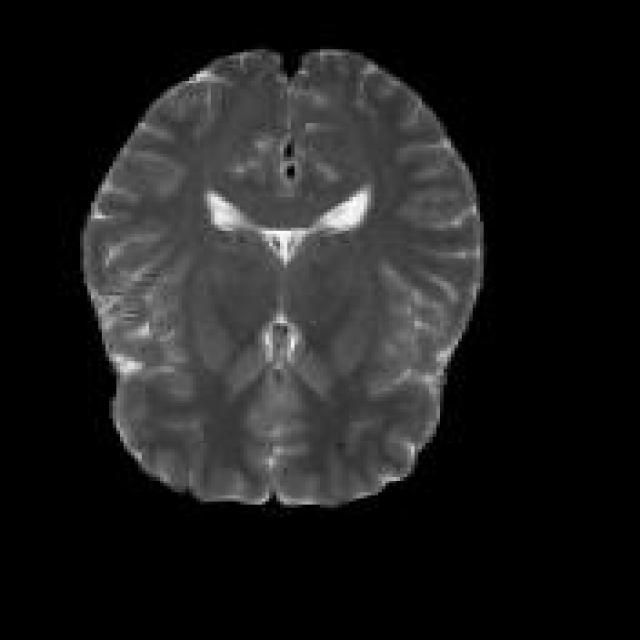CONTROL: (76, 43, 484, 508)
